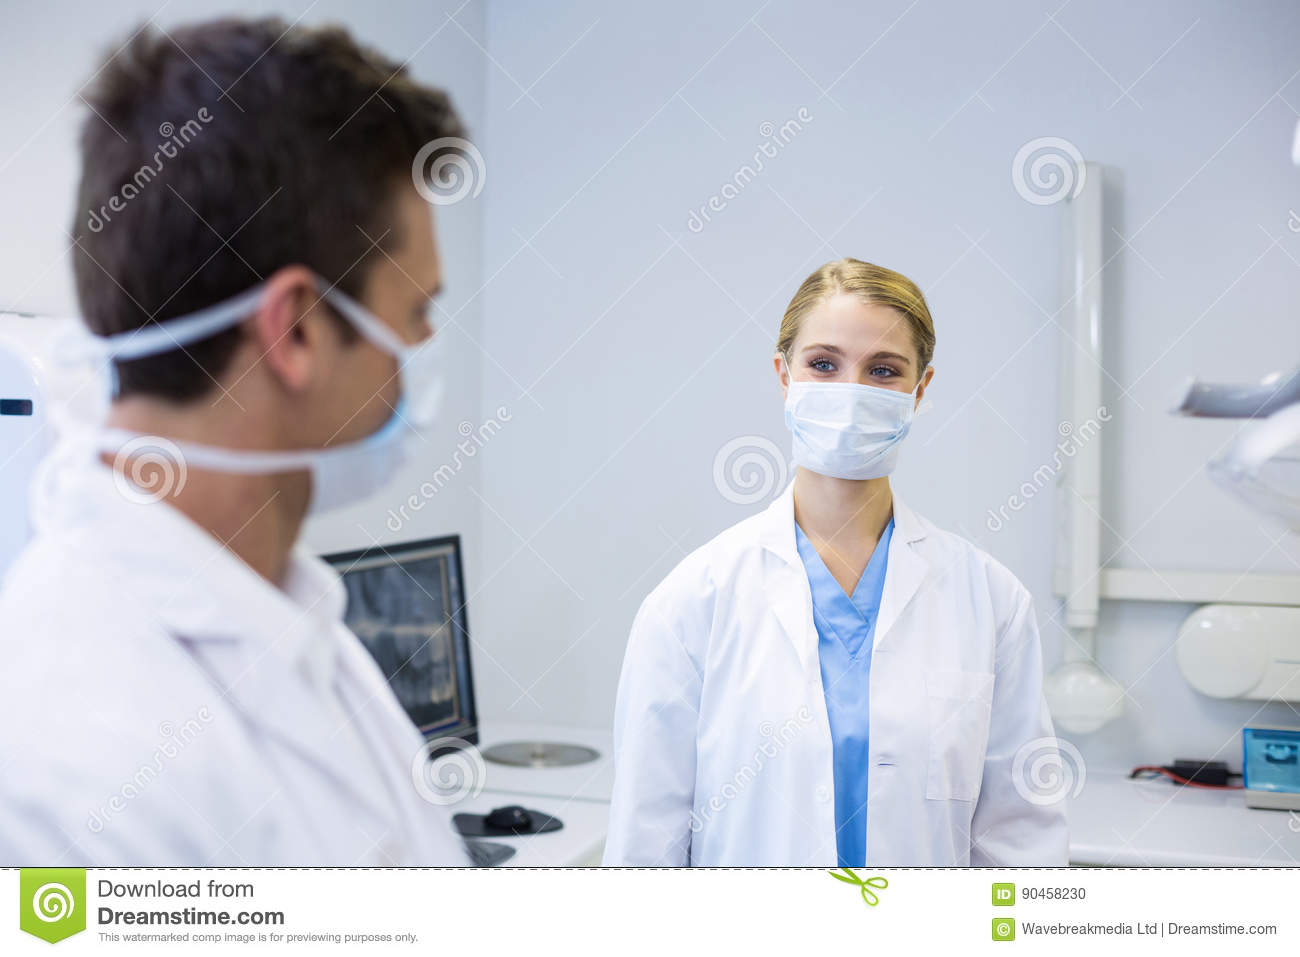mask: (779, 374, 920, 482)
